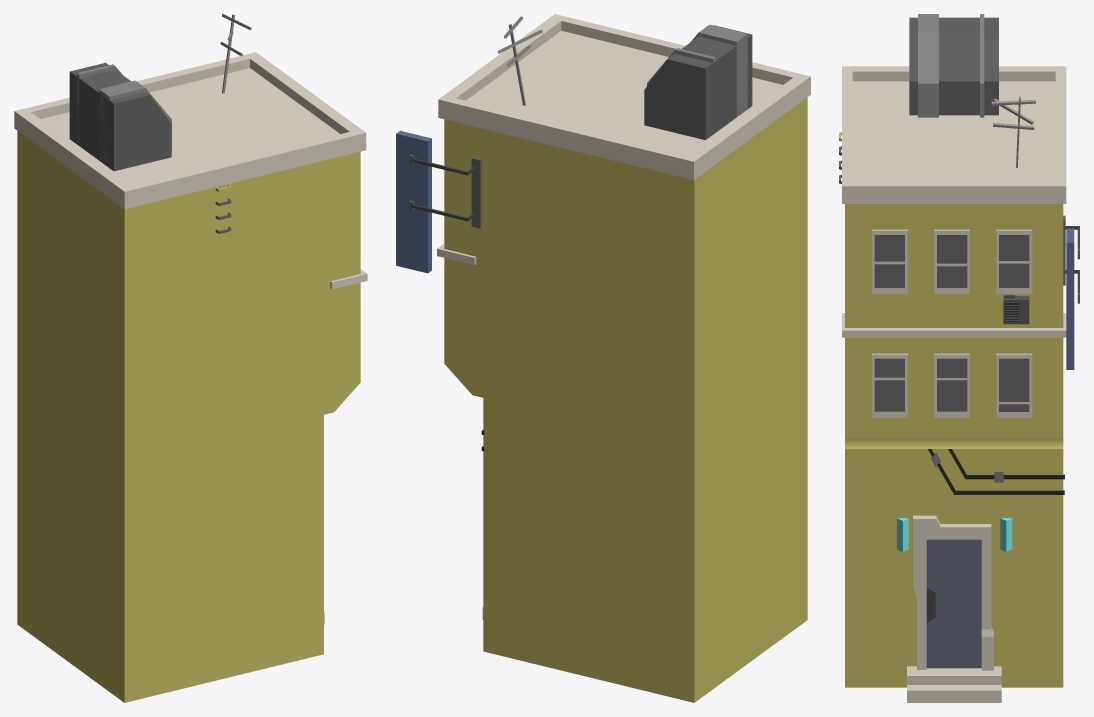
File: NorthWest_House_07.fbx
3 views of the same model, side by side, from view 1: azimuth 30°, elevation 25°; view 2: azimuth 150°, elevation 25°; view 3: azimuth 270°, elevation 25° (orthographic). The views are drawn at different scales.
Visible parts, largest first — view 1: NorthWest_House_07; view 2: NorthWest_House_07; view 3: NorthWest_House_07.
Part boxes in pixels (x1,y1,x2,y2): NorthWest_House_07: (14,14,367,702); NorthWest_House_07: (396,14,810,702); NorthWest_House_07: (839,14,1079,702).
Size of the model in its own units: 18.88 by 37.57 by 13.94.
